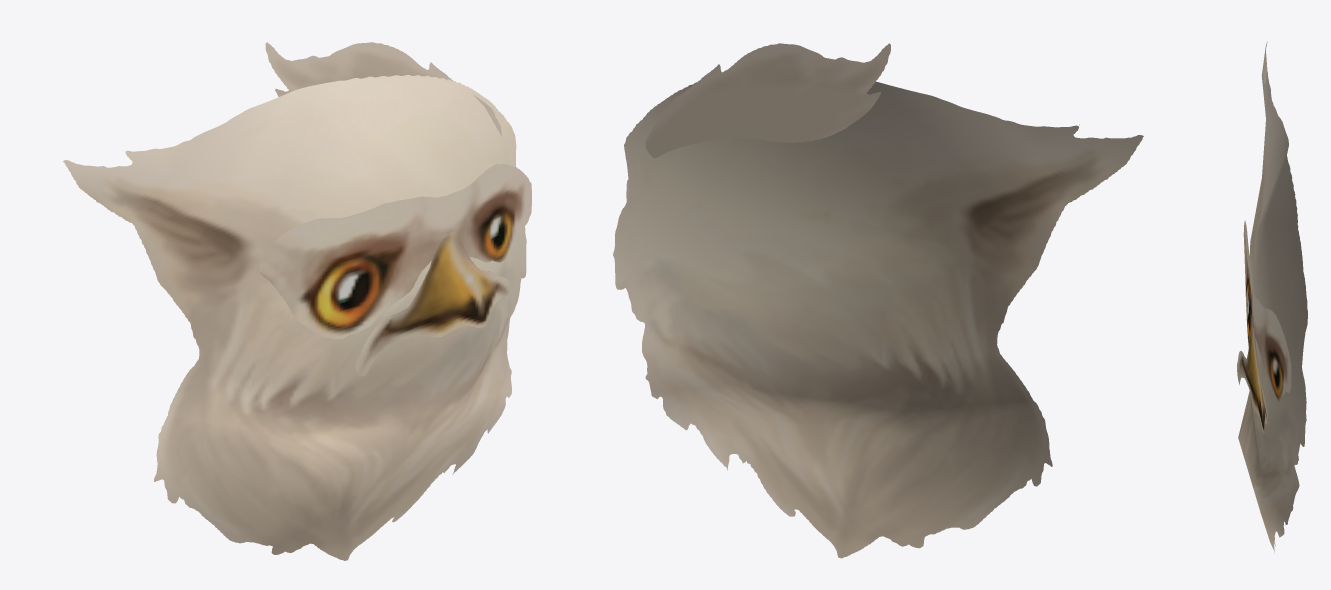
Rendered from Griffin GUI Head.FBX.
The picture shows the model from 3 angles, left to right: view 1: azimuth 30°, elevation 25°; view 2: azimuth 150°, elevation 25°; view 3: azimuth 270°, elevation 25°; orthographic projection. The views are drawn at different scales.
Visible parts, largest first — view 1: Griffin Head GUI; view 2: Griffin Head GUI; view 3: Griffin Head GUI.
Boxes of the visible parts, <box> form: Griffin Head GUI: <box>63,42,531,560</box>; Griffin Head GUI: <box>613,43,1143,558</box>; Griffin Head GUI: <box>1237,41,1307,553</box>.
Size of the model in its own units: 196 by 35.81 by 193.
